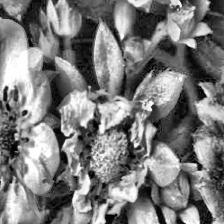Blossom Blight: (74, 110, 147, 203), (0, 85, 31, 190)
